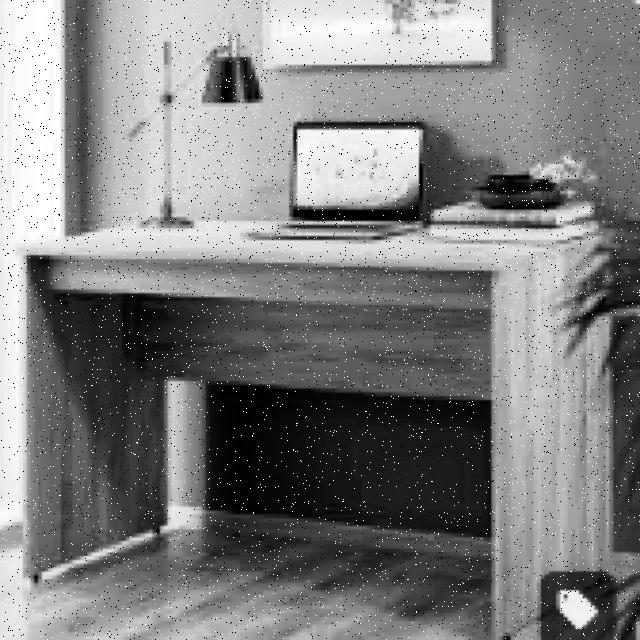table: (19, 213, 617, 640)
